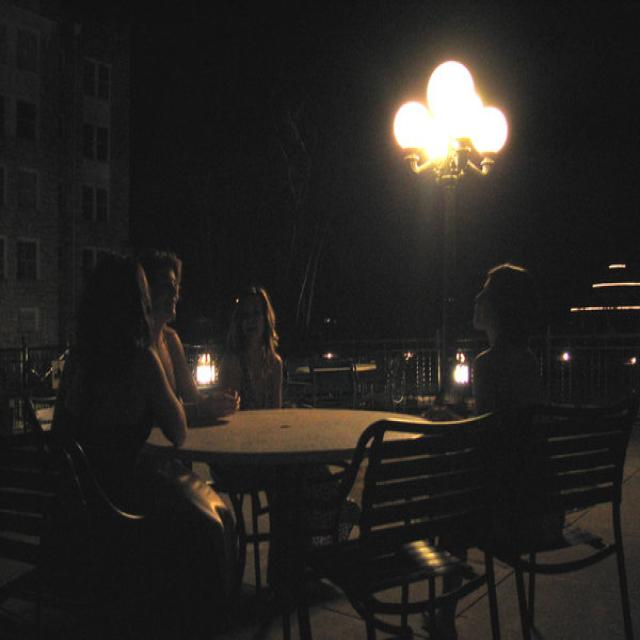People: (53, 226, 184, 640), (456, 232, 560, 482), (139, 213, 236, 456), (235, 264, 277, 416)
Table: (131, 377, 519, 632)
chair: (287, 402, 512, 640), (499, 381, 637, 640), (4, 408, 146, 629), (209, 465, 290, 629)
